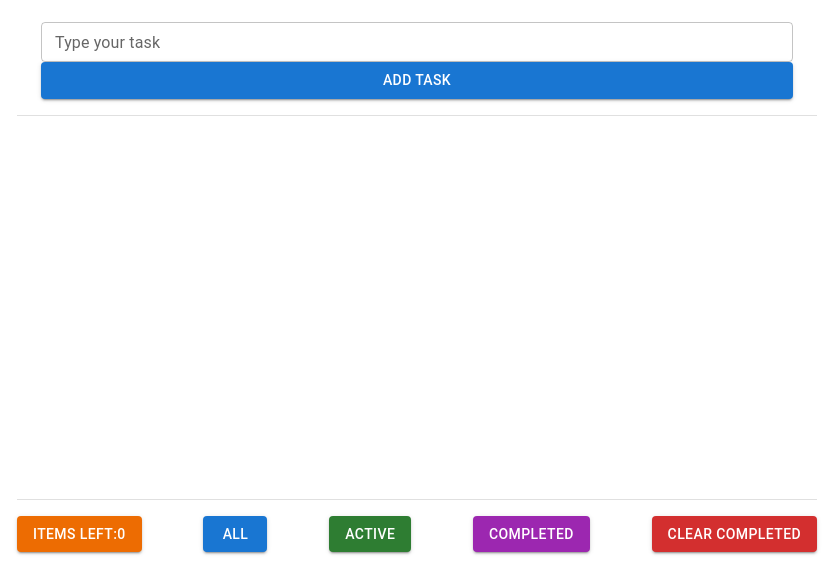
Scenario: App › add one task
Type "i love coding" into the field with test id "task-input" at coordinates (417, 42), box 41,22 -> 793,62
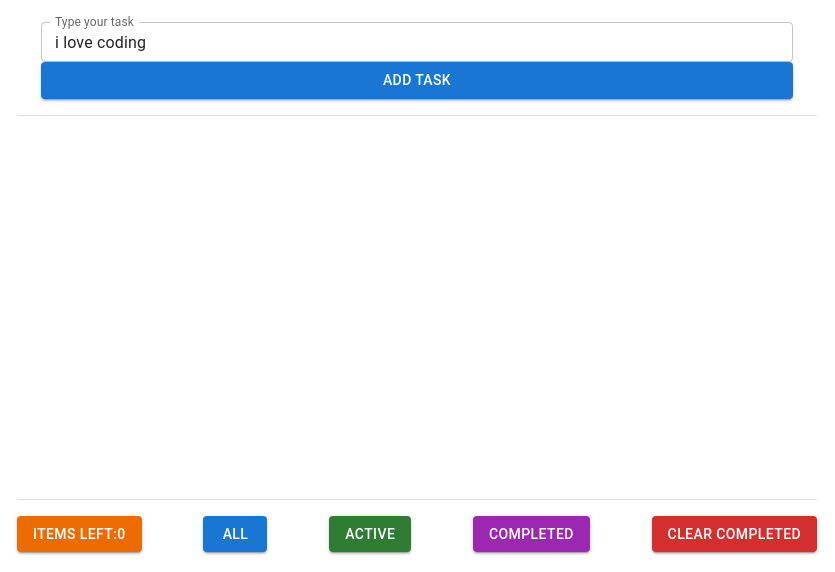
Submit the form from the button with test id "task-button", box 41,62 -> 793,98
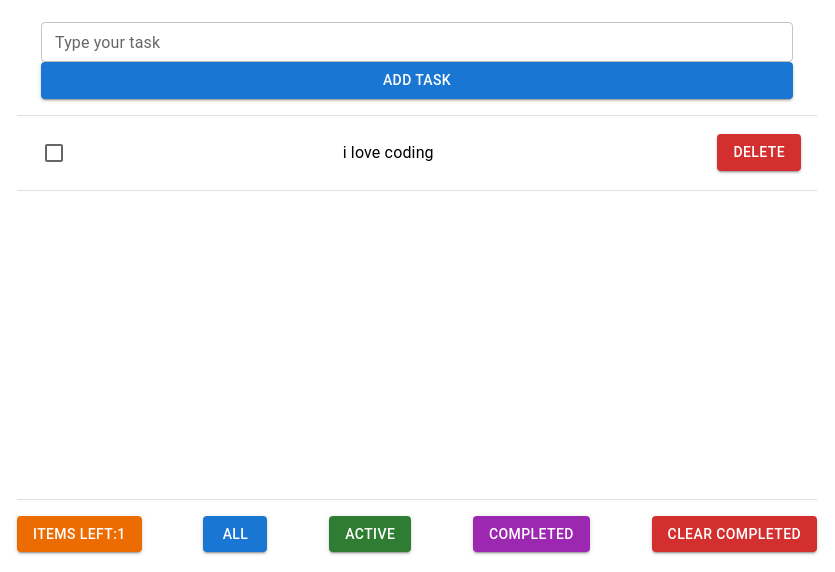
expect the element with test id "task-item-0-ACTIVE" is shown: met, box 42,134 -> 801,171
